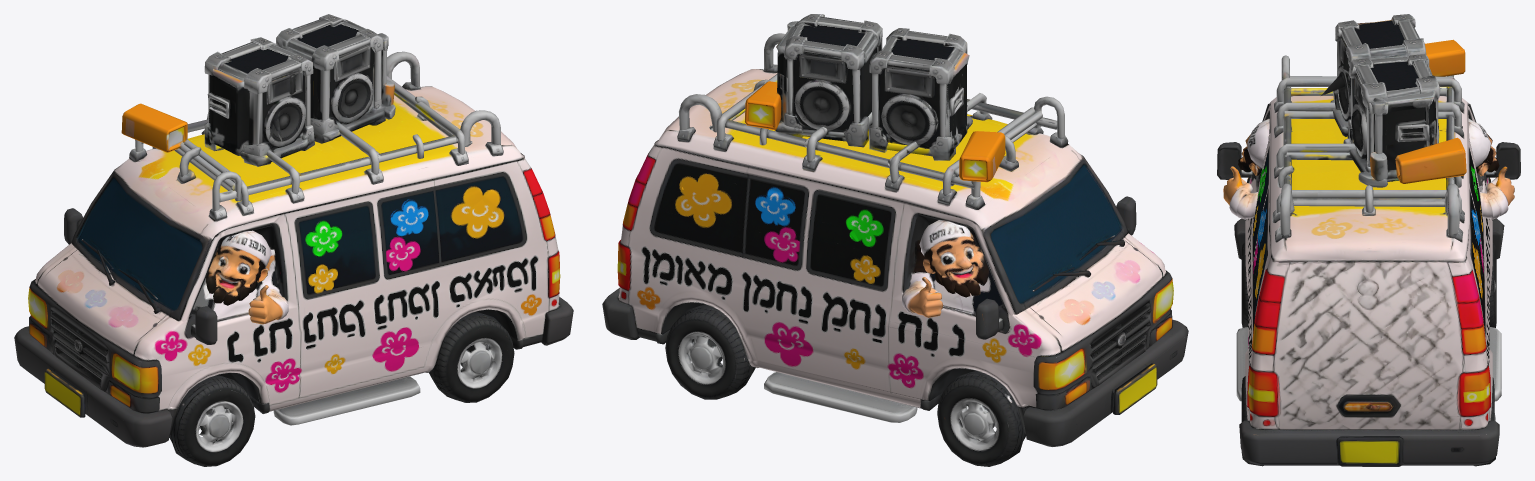
File: Meshy_AI_Na_Nachman_Music_Van_20261124_texture 2.glb
The picture shows the model from 3 angles, left to right: view 1: azimuth 30°, elevation 25°; view 2: azimuth 150°, elevation 25°; view 3: azimuth 270°, elevation 25°; orthographic projection. The views are drawn at different scales.
Size of the model in its own units: 0.957 by 0.6738 by 0.5273.
Materials: 1 (1 with a texture image).
